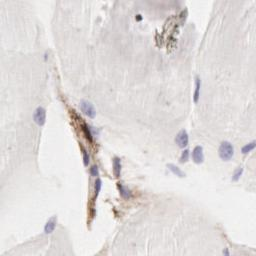nucleus: (166, 162, 186, 177), (219, 141, 234, 161), (79, 99, 95, 117), (32, 106, 46, 126), (175, 128, 189, 148), (191, 145, 204, 165), (44, 214, 58, 232), (193, 75, 200, 104), (242, 139, 256, 153), (112, 156, 122, 175), (90, 122, 103, 136), (233, 167, 244, 181), (179, 150, 189, 163), (84, 150, 89, 165), (96, 179, 102, 190), (223, 247, 230, 256), (92, 167, 98, 176)
positive_cell: (87, 179, 100, 220), (80, 119, 105, 140), (115, 180, 130, 201), (77, 143, 89, 165), (89, 161, 101, 177)
